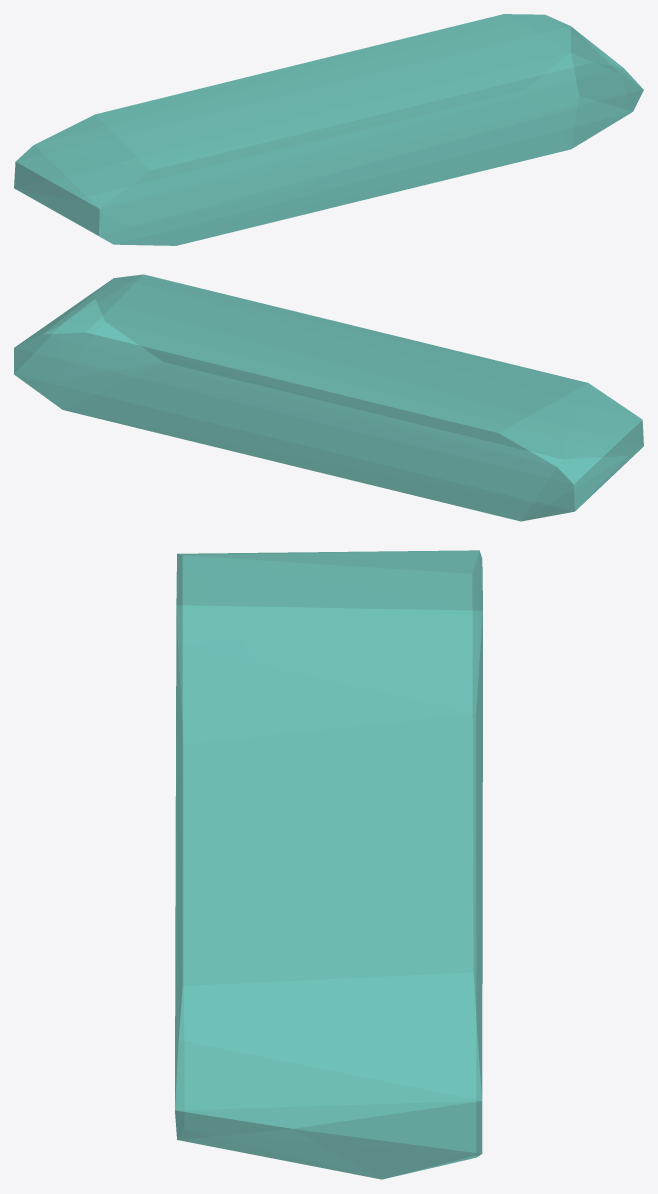
3 views of the same model, one above another, from view 1: azimuth 30°, elevation 25°; view 2: azimuth 150°, elevation 25°; view 3: azimuth 270°, elevation 25° (orthographic). The views are drawn at different scales.
Parts seen in each view (by area): view 1: Shape_IndexedFaceSet.159_Shape_IndexedFaceSet.588; view 2: Shape_IndexedFaceSet.159_Shape_IndexedFaceSet.588; view 3: Shape_IndexedFaceSet.159_Shape_IndexedFaceSet.588.
Part boxes in pixels (<box>): Shape_IndexedFaceSet.159_Shape_IndexedFaceSet.588: <box>14,14,643,245</box>; Shape_IndexedFaceSet.159_Shape_IndexedFaceSet.588: <box>14,274,643,521</box>; Shape_IndexedFaceSet.159_Shape_IndexedFaceSet.588: <box>175,550,482,1179</box>.
Bounding box in the file's own units: 0.3629 × 0.0512 × 0.0868.
